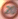20 km speed: (1, 1, 18, 18)
